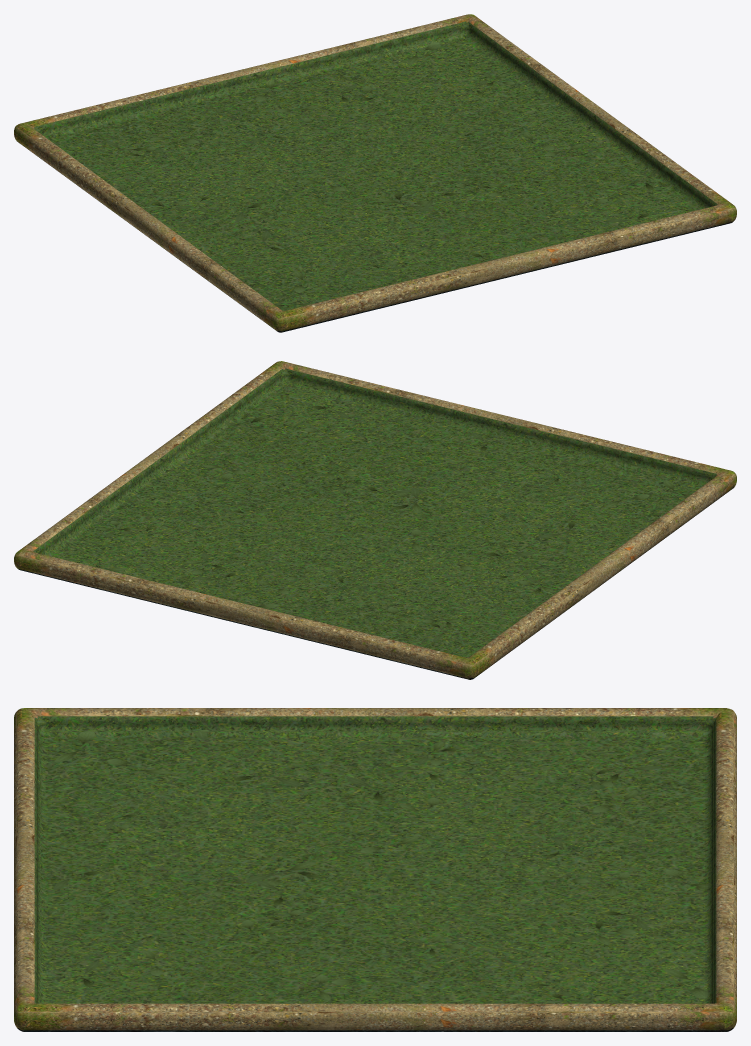
The model's file is Land.fbx.
3 renders of one model, top to bottom at view 1: azimuth 30°, elevation 25°; view 2: azimuth 150°, elevation 25°; view 3: azimuth 270°, elevation 25°, orthographic. The views are drawn at different scales.
Parts seen in each view (by area): view 1: Cube; view 2: Cube; view 3: Cube.
Part boxes in pixels (x1,y1,x2,y2): Cube: [14, 14, 736, 332]; Cube: [14, 361, 736, 679]; Cube: [14, 708, 736, 1031].
Size of the model in its own units: 2000 by 173 by 2000.
